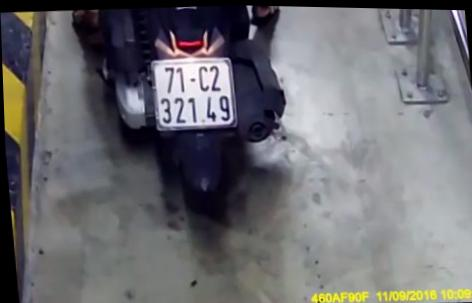LP: (146, 53, 239, 134)
